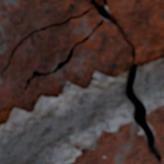broken_brick: (0, 0, 163, 125), (0, 0, 87, 70), (67, 121, 157, 163), (148, 103, 163, 163)
crack: (0, 0, 162, 163)
